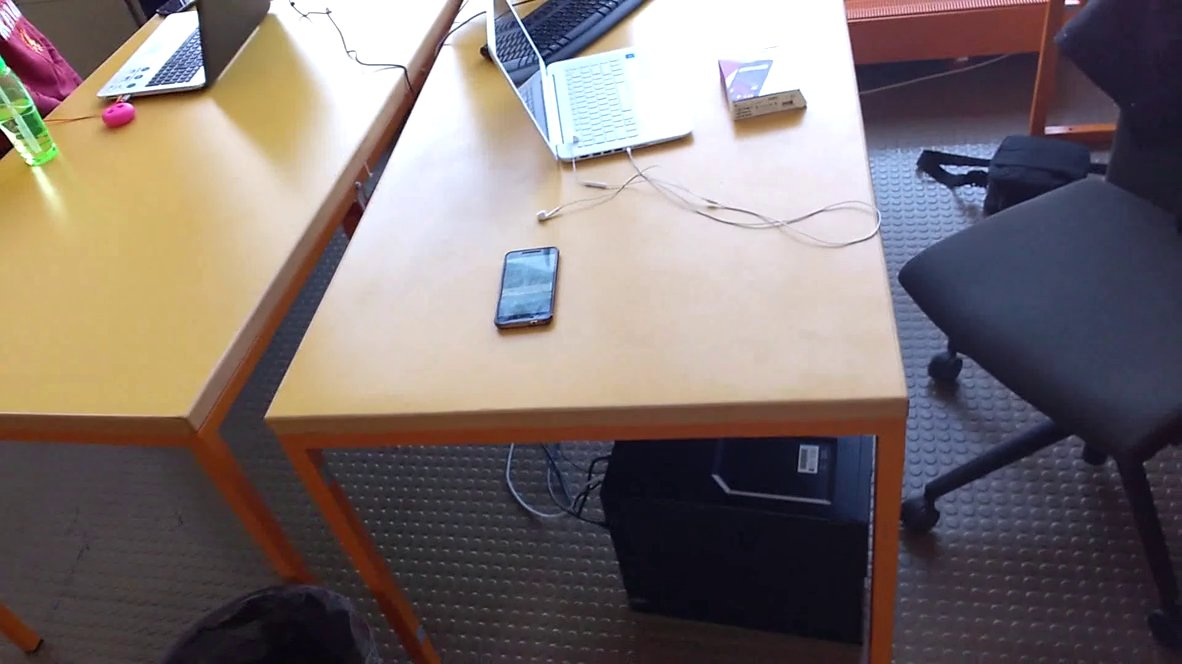laptop: (472, 1, 708, 167)
phone: (490, 240, 567, 336)
